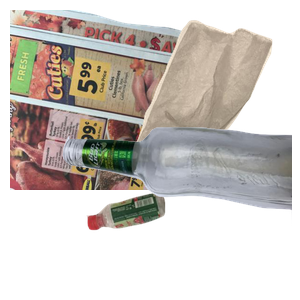glass: (60, 124, 300, 300)
paper: (10, 10, 250, 190)
plastic: (84, 191, 242, 300)
trash: (132, 17, 300, 177)
